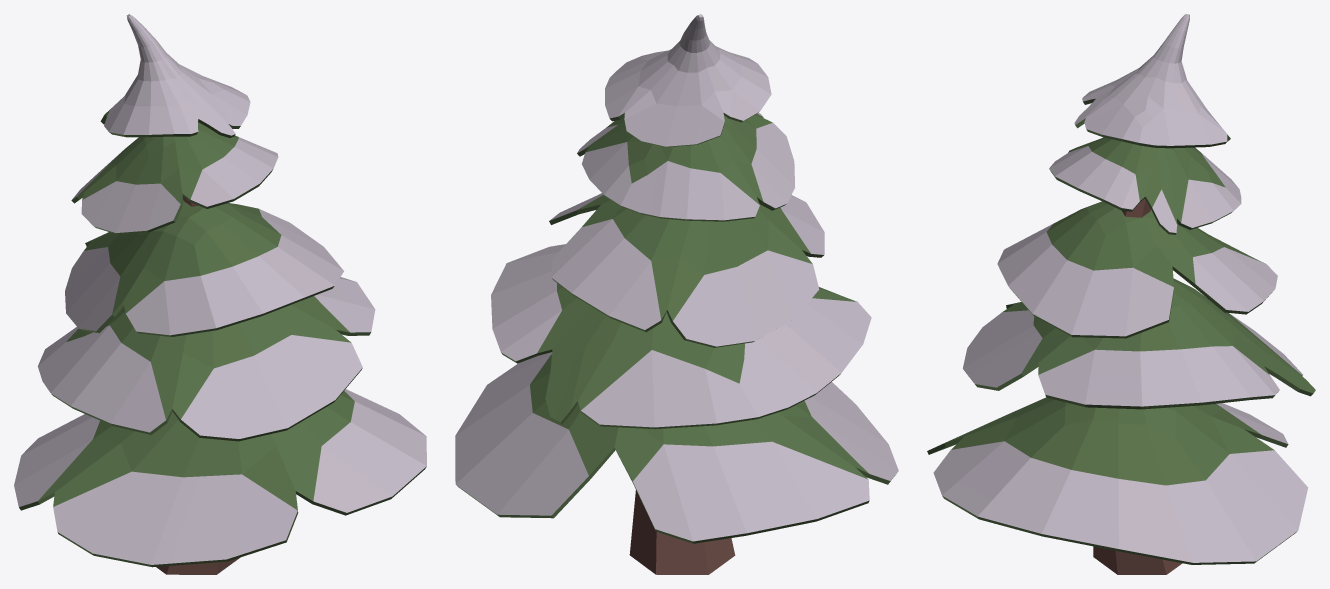
Rendered from pinetree_snow_1.glb.
3 views of the same model, side by side, from view 1: azimuth 30°, elevation 25°; view 2: azimuth 150°, elevation 25°; view 3: azimuth 270°, elevation 25° (orthographic). The views are drawn at different scales.
Parts seen in each view (by area): view 1: PineTree_Snow_1; view 2: PineTree_Snow_1; view 3: PineTree_Snow_1.
Part boxes in pixels (x1,y1,x2,y2): PineTree_Snow_1: (14, 14, 426, 574); PineTree_Snow_1: (455, 14, 898, 574); PineTree_Snow_1: (927, 14, 1315, 574).
Size of the model in its own units: 1.96 by 2.7 by 1.82.
